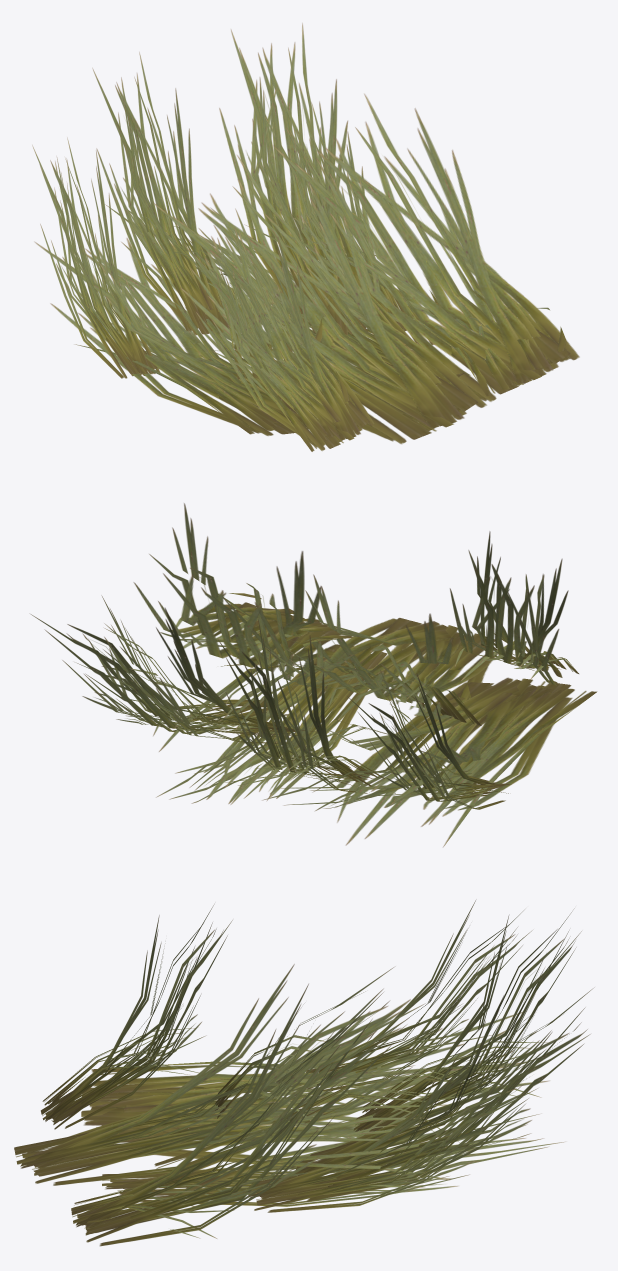
The model's file is smallest_grass_chunk.gltf.
3 renders of one model, top to bottom at view 1: azimuth 30°, elevation 25°; view 2: azimuth 150°, elevation 25°; view 3: azimuth 270°, elevation 25°, orthographic. The views are drawn at different scales.
Parts seen in each view (by area): view 1: Grass_High_122, Grass_High_101, Grass_Med_103, Grass_Med_124, Grass_Med_127, Grass_High_104, Grass_High_125, Grass_High_143, Grass_Low_141, Grass_Low_165, Grass_High_164, Grass_Low_105; view 2: Grass_Med_124, Grass_High_101, Grass_High_122, Grass_High_104, Grass_High_164, Grass_Med_127, Grass_Med_103, Grass_High_125, Grass_High_143, Grass_Low_165, Grass_Low_105, Grass_Low_141 (+1 smaller); view 3: Grass_High_101, Grass_Med_124, Grass_High_122, Grass_High_104, Grass_Med_103, Grass_High_143, Grass_Med_127, Grass_High_125, Grass_High_164, Grass_Low_165, Grass_Low_141, Grass_Low_126 (+1 smaller).
Boxes of the visible parts, x1,y1,x2,y2 form: Grass_High_122: (273,93,579,401); Grass_High_101: (153,155,486,444); Grass_Med_103: (183,208,374,451); Grass_Med_124: (34,227,310,435); Grass_Med_127: (92,52,229,335); Grass_High_104: (219,23,369,334); Grass_High_125: (32,137,160,378); Grass_High_143: (265,102,406,337); Grass_Low_141: (434,307,566,396); Grass_Low_165: (244,215,439,359); Grass_High_164: (178,207,470,377); Grass_Low_105: (205,281,322,379); Grass_Med_124: (262,677,597,847); Grass_High_101: (265,574,497,719); Grass_High_122: (133,503,340,689); Grass_High_104: (30,595,315,743); Grass_High_164: (156,646,387,804); Grass_Med_127: (218,619,384,798); Grass_Med_103: (450,531,578,685); Grass_High_125: (347,665,511,809); Grass_High_143: (75,628,292,739); Grass_Low_165: (153,663,348,751); Grass_Low_105: (328,674,481,725); Grass_Low_141: (176,593,352,676); Grass_High_101: (14,964,425,1185); Grass_Med_124: (81,999,549,1164); Grass_High_122: (71,984,406,1246); Grass_High_104: (289,987,594,1201); Grass_Med_103: (40,904,232,1129); Grass_High_143: (248,1053,537,1212); Grass_Med_127: (353,908,581,1135); Grass_High_125: (306,900,532,1091); Grass_High_164: (102,1108,563,1206); Grass_Low_165: (154,1104,449,1196); Grass_Low_141: (71,1184,233,1238); Grass_Low_126: (272,1068,478,1142).
Bounding box in the file's own units: 0.9939 × 0.5838 × 1.16.
1 material, 1 textured.
